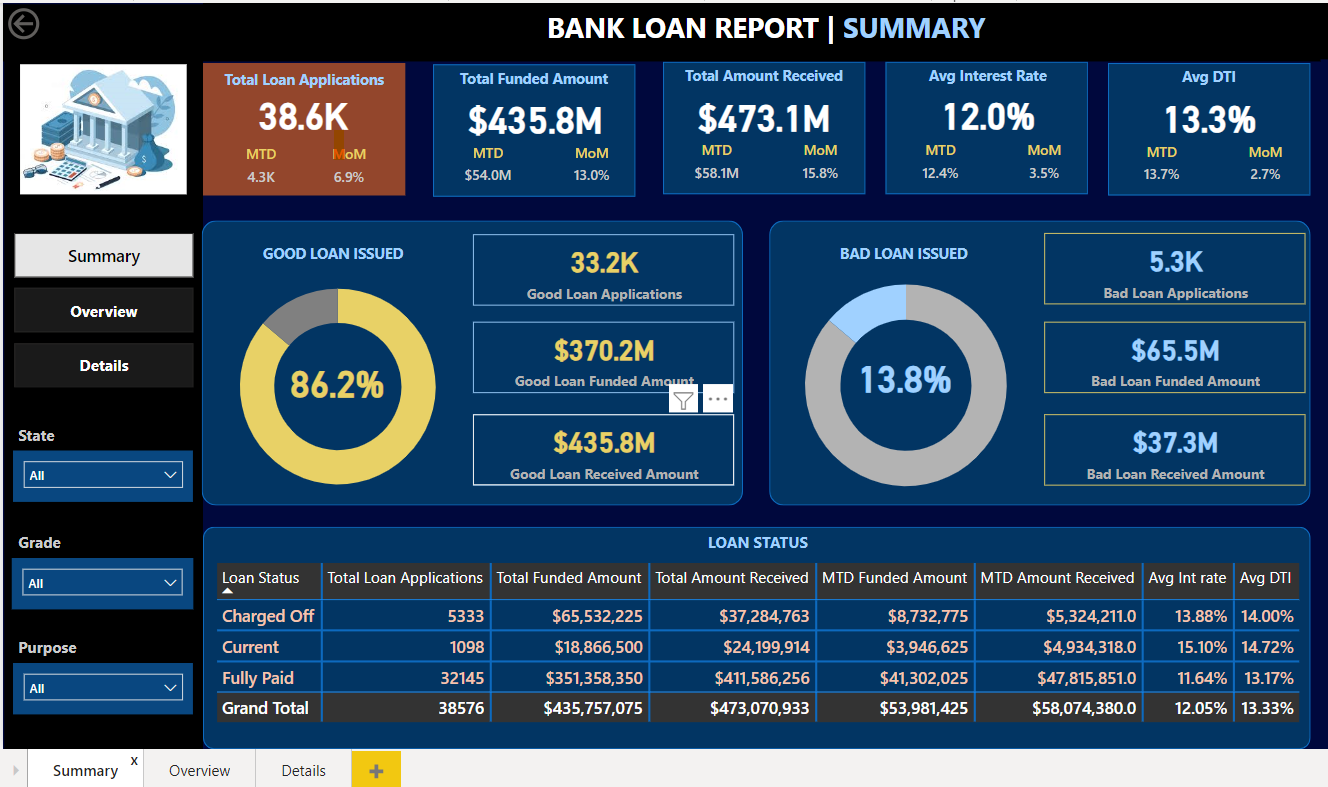

This screenshot's page, from the dashboard's own definition file:
{"tool":"powerbi","page":{"name":"Summary","canvas":[1280,720],"ordinal":0},"visuals":[{"type":"shape","box":[1.2,55.5,191.8,664.5],"z":0},{"type":"shape","box":[191.8,209.8,522.2,275],"z":1000},{"type":"shape","box":[1066.1,58.1,195.4,127.8],"z":2000},{"type":"shape","box":[851.9,56.2,195.4,127.8],"z":3000},{"type":"shape","box":[636.4,56.8,195.4,127.8],"z":4000},{"type":"shape","box":[0,1.2,1271.2,55.5],"z":5000},{"type":"shape","box":[415.1,59.3,195.4,127.8],"z":6000},{"type":"shape","box":[193,57.9,195.4,127.8],"z":7000},{"type":"textbox","box":[193.4,0,1086.6,54.3],"z":8000},{"type":"card","fields":{"Values":["bank_loan_data.Total Loan Applications"]},"box":[192,83.5,196.2,47.3],"z":9000},{"type":"textbox","box":[193,59.1,195.4,30.2],"z":10000},{"type":"card","title":"MTD","fields":{"Values":["bank_loan_data.MTD Loan Applications"]},"box":[219.5,136.3,59.1,49.4],"z":11000},{"type":"card","title":"MoM","fields":{"Values":["bank_loan_data.MoM Loan Applications"]},"box":[300.3,136.3,67.5,49.4],"z":12000},{"type":"card","fields":{"Values":["bank_loan_data.Total Funded Amount"]},"box":[415.6,87.1,195.4,47],"z":13000},{"type":"card","title":"MoM","fields":{"Values":["bank_loan_data.MoM Funded Amount"]},"box":[539.8,135.3,55.5,49.4],"z":14000},{"type":"card","title":"MTD","fields":{"Values":["bank_loan_data.MTD Funded Amount"]},"box":[433.7,135.3,67.5,49.4],"z":15000},{"type":"textbox","box":[415.3,58.1,194.8,29.2],"z":16000},{"type":"textbox","box":[636.6,55.6,194.8,29.2],"z":17000},{"type":"card","fields":{"Values":["bank_loan_data.Total Amount Received"]},"box":[637,84.2,195.4,47],"z":18000},{"type":"card","title":"MoM","fields":{"Values":["bank_loan_data.MoM Amount Received"]},"box":[761.1,132.8,55.5,49.4],"z":19000},{"type":"card","title":"MTD","fields":{"Values":["bank_loan_data.MTD Amount Received"]},"box":[655,132.8,67.5,49.4],"z":20000},{"type":"card","title":"MoM","fields":{"Values":["bank_loan_data.MOM Avg Int Rate"]},"box":[976.6,132.2,55.5,49.4],"z":21000},{"type":"card","title":"MTD","fields":{"Values":["bank_loan_data.MTD Avg Int Rate"]},"box":[870.5,132.2,67.5,49.4],"z":22000},{"type":"card","fields":{"Values":["bank_loan_data.Avg Int rate"]},"box":[852.5,83.6,195.4,47],"z":23000},{"type":"textbox","box":[852.1,55,194.8,29.2],"z":24000},{"type":"card","title":"MoM","fields":{"Values":["bank_loan_data.MoM Avg DTI"]},"box":[1190.8,134.1,55.5,49.4],"z":25000},{"type":"card","title":"MTD","fields":{"Values":["bank_loan_data.MTD Avg DTI"]},"box":[1084.7,134.1,67.5,49.4],"z":26000},{"type":"card","fields":{"Values":["bank_loan_data.Avg DTI"]},"box":[1066.7,85.5,195.4,47],"z":27000},{"type":"textbox","box":[1066.3,56.9,194.8,29.2],"z":28000},{"type":"donutChart","fields":{"Category":["bank_loan_data.Good Vs Bad Loan"],"Y":["bank_loan_data.Total Loan Applications"]},"box":[200.2,244.8,246,250.9],"z":29000},{"type":"shape","box":[739.3,209.8,522.2,275],"z":30000},{"type":"card","fields":{"Values":["bank_loan_data.Good Loan %"]},"box":[259.3,341.3,126.6,47],"z":31000},{"type":"textbox","box":[220.7,226.7,195.4,30.2],"z":32000},{"type":"actionButton","box":[0,0,100,40],"z":33000},{"type":"card","fields":{"Values":["bank_loan_data.Good Loan Applications"]},"box":[453.5,223.1,252.1,68.7],"z":34000},{"type":"card","fields":{"Values":["bank_loan_data.Good Loan Funded Amount"]},"box":[453.5,307.5,252.1,68.7],"z":35000},{"type":"card","fields":{"Values":["bank_loan_data.Good Loan Received Amount"]},"box":[453.5,396.8,252.1,68.7],"z":36000},{"type":"donutChart","fields":{"Category":["bank_loan_data.Good Vs Bad Loan"],"Y":["bank_loan_data.Total Loan Applications"]},"box":[741.7,242.4,259.3,253.3],"z":37000},{"type":"textbox","box":[761,226.7,215.9,30.2],"z":38000},{"type":"card","fields":{"Values":["bank_loan_data.Bad Loan %"]},"box":[806.8,336.5,126.6,47],"z":39000},{"type":"card","fields":{"Values":["bank_loan_data.Bad Loan Applications"]},"box":[1004.6,221.9,252.1,68.7],"z":40000},{"type":"card","fields":{"Values":["bank_loan_data.Bad Loan Funded Amount"]},"box":[1004.6,307.5,252.1,68.7],"z":41000},{"type":"card","fields":{"Values":["bank_loan_data.Bad Loan Received Amount"]},"box":[1004.6,396.8,252.1,68.7],"z":42000},{"type":"shape","box":[193,505.3,1068.5,214.7],"z":43000},{"type":"tableEx","fields":{"Values":["bank_loan_data.loan_status","bank_loan_data.Total Loan Applications","bank_loan_data.Total Funded Amount","bank_loan_data.Total Amount Received","bank_loan_data.MTD Funded Amount","bank_loan_data.MTD Amount Received","bank_loan_data.Avg Int rate","bank_loan_data.Avg DTI"]},"box":[200.2,535.5,1061.3,166.4],"z":44000},{"type":"textbox","box":[211.1,505.3,1034.8,30.2],"z":45000},{"type":"slicer","fields":{"Values":["bank_loan_data.address_state"]},"box":[9.6,431.8,173.7,49.4],"z":46000},{"type":"textbox","box":[9.6,401.6,137.5,30.2],"z":47000},{"type":"textbox","box":[9.6,505.3,137.5,30.2],"z":48000},{"type":"slicer","fields":{"Values":["bank_loan_data.grade"]},"box":[8.4,535.5,174.9,49.4],"z":49000},{"type":"textbox","box":[9.6,606.6,137.5,30.2],"z":50000},{"type":"slicer","fields":{"Values":["bank_loan_data.purpose"]},"box":[9.6,636.8,173.7,49.4],"z":51000},{"type":"pageNavigator","box":[10.9,221.9,173.7,152],"z":52000},{"type":"image","box":[8.4,54.3,176.1,135.1],"z":53000}]}

Visuals, with their boxes on the page's 1280x720 design canvas (x1, y1, x2, y2). These are canvas units, not pixel positions in the 1328x787 screenshot, which may show the page scaled, cropped or inside an application window:
shape: crop(1, 56, 193, 720)
shape: crop(192, 210, 714, 485)
shape: crop(1066, 58, 1262, 186)
shape: crop(852, 56, 1047, 184)
shape: crop(636, 57, 832, 185)
shape: crop(0, 1, 1271, 57)
shape: crop(415, 59, 610, 187)
shape: crop(193, 58, 388, 186)
textbox: crop(193, 0, 1280, 54)
card - bank_loan_data.Total Loan Applications: crop(192, 84, 388, 131)
textbox: crop(193, 59, 388, 89)
"MTD" card: crop(220, 136, 279, 186)
"MoM" card: crop(300, 136, 368, 186)
card - bank_loan_data.Total Funded Amount: crop(416, 87, 611, 134)
"MoM" card: crop(540, 135, 595, 185)
"MTD" card: crop(434, 135, 501, 185)
textbox: crop(415, 58, 610, 87)
textbox: crop(637, 56, 831, 85)
card - bank_loan_data.Total Amount Received: crop(637, 84, 832, 131)
"MoM" card: crop(761, 133, 817, 182)
"MTD" card: crop(655, 133, 722, 182)
"MoM" card: crop(977, 132, 1032, 182)
"MTD" card: crop(870, 132, 938, 182)
card - bank_loan_data.Avg Int rate: crop(852, 84, 1048, 131)
textbox: crop(852, 55, 1047, 84)
"MoM" card: crop(1191, 134, 1246, 184)
"MTD" card: crop(1085, 134, 1152, 184)
card - bank_loan_data.Avg DTI: crop(1067, 86, 1262, 132)
textbox: crop(1066, 57, 1261, 86)
donutChart - bank_loan_data.Good Vs Bad Loan x bank_loan_data.Total Loan Applications: crop(200, 245, 446, 496)
shape: crop(739, 210, 1262, 485)
card - bank_loan_data.Good Loan %: crop(259, 341, 386, 388)
textbox: crop(221, 227, 416, 257)
actionButton: crop(0, 0, 100, 40)
card - bank_loan_data.Good Loan Applications: crop(454, 223, 706, 292)
card - bank_loan_data.Good Loan Funded Amount: crop(454, 308, 706, 376)
card - bank_loan_data.Good Loan Received Amount: crop(454, 397, 706, 466)
donutChart - bank_loan_data.Good Vs Bad Loan x bank_loan_data.Total Loan Applications: crop(742, 242, 1001, 496)
textbox: crop(761, 227, 977, 257)
card - bank_loan_data.Bad Loan %: crop(807, 336, 933, 384)
card - bank_loan_data.Bad Loan Applications: crop(1005, 222, 1257, 291)
card - bank_loan_data.Bad Loan Funded Amount: crop(1005, 308, 1257, 376)
card - bank_loan_data.Bad Loan Received Amount: crop(1005, 397, 1257, 466)
shape: crop(193, 505, 1262, 720)
tableEx - bank_loan_data.loan_status x bank_loan_data.Total Loan Applications: crop(200, 536, 1262, 702)
textbox: crop(211, 505, 1246, 536)
slicer - bank_loan_data.address_state: crop(10, 432, 183, 481)
textbox: crop(10, 402, 147, 432)
textbox: crop(10, 505, 147, 536)
slicer - bank_loan_data.grade: crop(8, 536, 183, 585)
textbox: crop(10, 607, 147, 637)
slicer - bank_loan_data.purpose: crop(10, 637, 183, 686)
pageNavigator: crop(11, 222, 185, 374)
image: crop(8, 54, 184, 189)
